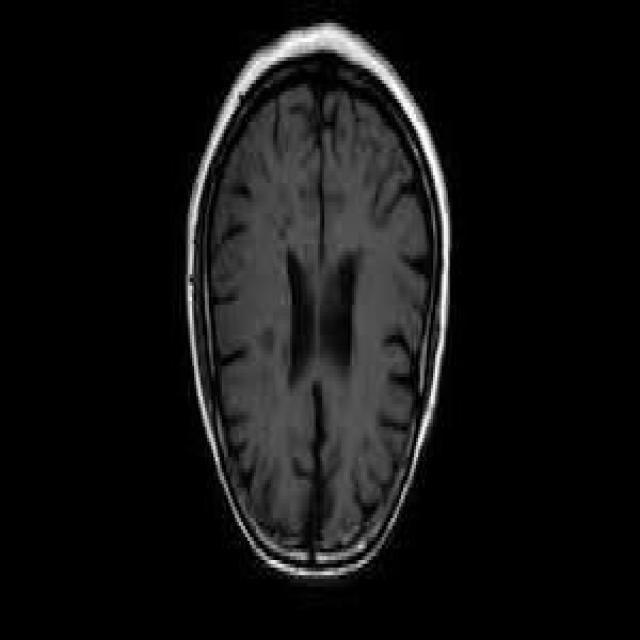notumor: (186, 27, 448, 575)
